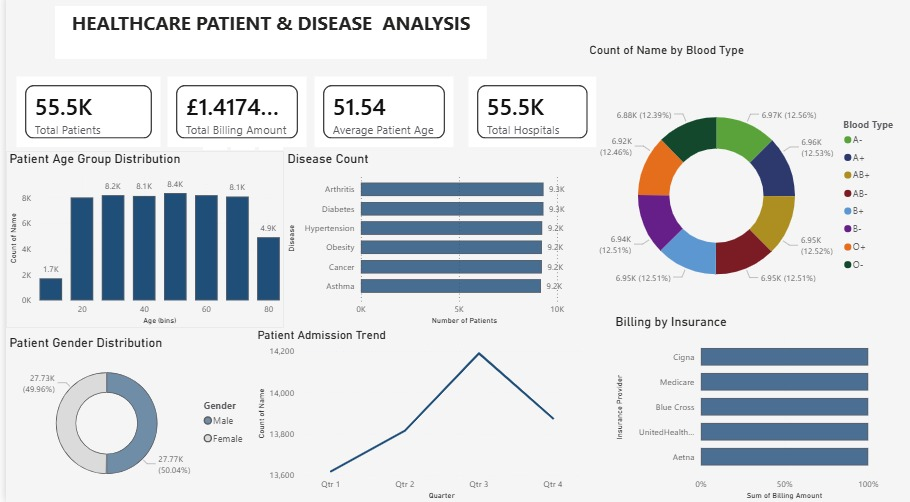

This screenshot's page, from the dashboard's own definition file:
{"tool":"powerbi","page":{"name":"Page 1","canvas":[1280,720],"ordinal":0},"visuals":[{"type":"clusteredColumnChart","title":"Patient Age Group  Distribution","fields":{"Category":["healthcare_dataset.Age (bins)"],"Y":["CountNonNull(healthcare_dataset.Name)"]},"box":[0,221.8,394.6,250.6],"z":0},{"type":"donutChart","title":"Patient Gender Distribution","fields":{"Category":["healthcare_dataset.Gender"],"Y":["CountNonNull(healthcare_dataset.Name)"]},"box":[0,482.4,351.4,229],"z":1000},{"type":"clusteredBarChart","title":"Disease Count","fields":{"Category":["healthcare_dataset.Disease"],"Y":["CountNonNull(healthcare_dataset.Name)"]},"box":[394.6,221.8,417.6,250.6],"z":2000},{"type":"hundredPercentStackedBarChart","title":"Billing by Insurance","fields":{"Category":["healthcare_dataset.Insurance Provider"],"Y":["Sum(healthcare_dataset.Billing Amount)"]},"box":[858.2,452.2,383,267.8],"z":3000},{"type":"donutChart","fields":{"Category":["healthcare_dataset.Blood Type"],"Y":["CountNonNull(healthcare_dataset.Name)"]},"box":[822,68,457.8,413.9],"z":4000},{"type":"lineChart","title":"Patient Admission Trend","fields":{"Category":["healthcare_dataset.Date of Admission.Variation.Date Hierarchy.Quarter"],"Y":["CountNonNull(healthcare_dataset.Name)"]},"box":[351.4,472.3,470.9,247.7],"z":5000},{"type":"cardVisual","title":"total patient","fields":{"Data":["CountNonNull(healthcare_dataset.Name)"]},"box":[10.1,110.9,214.6,110.9],"z":6000},{"type":"cardVisual","title":"total patient","fields":{"Data":["Sum(healthcare_dataset.Billing Amount)"]},"box":[224.6,110.9,207.4,110.9],"z":7000},{"type":"cardVisual","title":"total patient","fields":{"Data":["Avg(healthcare_dataset.Age)"]},"box":[432,110.9,207.4,110.9],"z":8000},{"type":"cardVisual","title":"total patient","fields":{"Data":["CountNonNull(healthcare_dataset.Hospital)"]},"box":[650.9,110.9,191.5,110.9],"z":9000},{"type":"textbox","box":[69.4,15.6,612.3,75.1],"z":10000}]}

Visuals, with their boxes in screenshot pixels (x1, y1, x2, y2), scaled from the page's 1280x720 canvas onto the 910x502 screenshot:
"Patient Age Group  Distribution" clusteredColumnChart: 0/155/281/329
"Patient Gender Distribution" donutChart: 0/336/250/496
"Disease Count" clusteredBarChart: 281/155/577/329
"Billing by Insurance" hundredPercentStackedBarChart: 610/315/882/501
donutChart - healthcare_dataset.Blood Type x CountNonNull(healthcare_dataset.Name): 584/47/909/336
"Patient Admission Trend" lineChart: 250/329/585/501
"total patient" cardVisual: 7/77/160/155
"total patient" cardVisual: 160/77/307/155
"total patient" cardVisual: 307/77/455/155
"total patient" cardVisual: 463/77/599/155
textbox: 49/11/485/63
